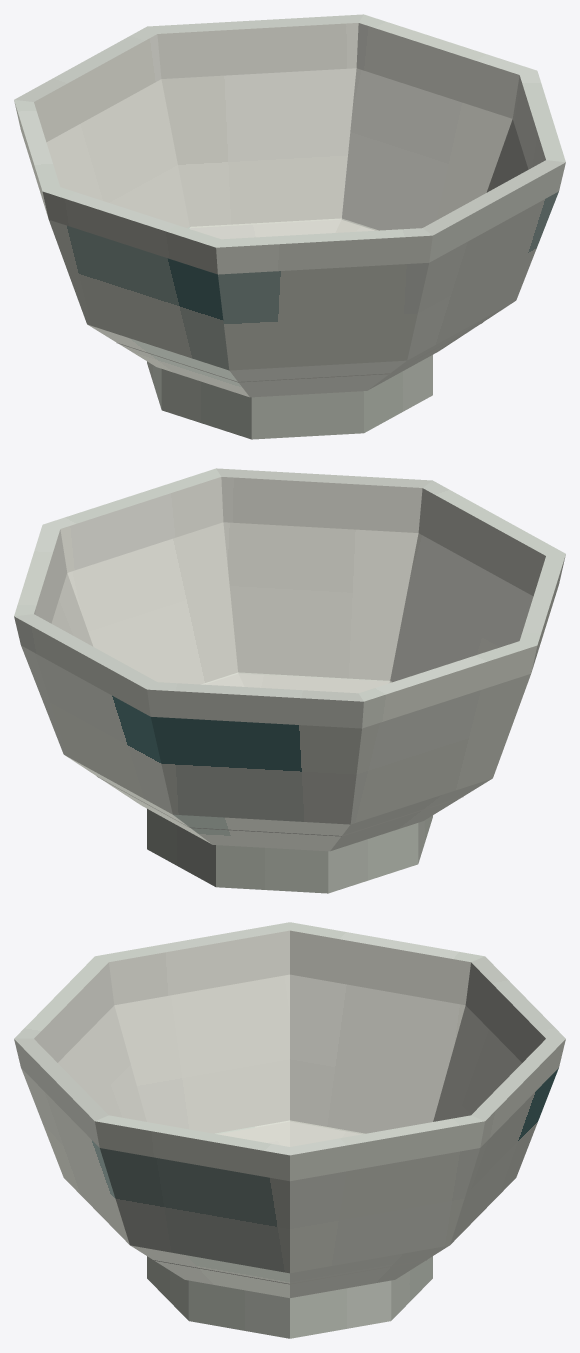
The model's file is antique-nabeshima.glb.
3 renders of one model, top to bottom at view 1: azimuth 30°, elevation 25°; view 2: azimuth 150°, elevation 25°; view 3: azimuth 270°, elevation 25°, orthographic. The views are drawn at different scales.
Parts seen in each view (by area): view 1: antique-nabeshima/ceramic-inner-wall-6, antique-nabeshima/ceramic-outer-mid-2, antique-nabeshima/ceramic-inner-upper-5, antique-nabeshima/ceramic-rim-4, antique-nabeshima/ceramic-outer-upper-3, antique-nabeshima/ceramic-foot-outer-1, antique-nabeshima/ceramic-outer-lower-1, antique-nabeshima/ceramic-inner-lower-7; view 2: antique-nabeshima/ceramic-inner-wall-6, antique-nabeshima/ceramic-outer-mid-2, antique-nabeshima/ceramic-inner-upper-5, antique-nabeshima/ceramic-rim-4, antique-nabeshima/ceramic-outer-upper-3, antique-nabeshima/ceramic-foot-outer-1, antique-nabeshima/ceramic-outer-lower-1, antique-nabeshima/ceramic-inner-lower-7; view 3: antique-nabeshima/ceramic-inner-wall-6, antique-nabeshima/ceramic-outer-mid-2, antique-nabeshima/ceramic-inner-upper-5, antique-nabeshima/ceramic-outer-upper-3, antique-nabeshima/ceramic-rim-4, antique-nabeshima/ceramic-foot-outer-1, antique-nabeshima/ceramic-outer-lower-1, antique-nabeshima/ceramic-inner-lower-7.
Part boxes in pixels (x1,y1,x2,y2): antique-nabeshima/ceramic-inner-wall-6: (46, 68, 528, 382); antique-nabeshima/ceramic-outer-mid-2: (49, 191, 558, 370); antique-nabeshima/ceramic-inner-upper-5: (34, 23, 545, 169); antique-nabeshima/ceramic-rim-4: (14, 14, 565, 247); antique-nabeshima/ceramic-outer-upper-3: (14, 101, 565, 274); antique-nabeshima/ceramic-foot-outer-1: (147, 355, 432, 439); antique-nabeshima/ceramic-outer-lower-1: (88, 218, 514, 397); antique-nabeshima/ceramic-inner-lower-7: (189, 219, 374, 239); antique-nabeshima/ceramic-inner-wall-6: (51, 522, 533, 836); antique-nabeshima/ceramic-outer-mid-2: (21, 645, 530, 824); antique-nabeshima/ceramic-inner-upper-5: (34, 477, 545, 623); antique-nabeshima/ceramic-rim-4: (14, 468, 565, 701); antique-nabeshima/ceramic-outer-upper-3: (14, 555, 565, 728); antique-nabeshima/ceramic-foot-outer-1: (147, 809, 432, 893); antique-nabeshima/ceramic-outer-lower-1: (65, 672, 491, 851); antique-nabeshima/ceramic-inner-lower-7: (205, 673, 390, 693); antique-nabeshima/ceramic-inner-wall-6: (58, 974, 521, 1284); antique-nabeshima/ceramic-outer-mid-2: (21, 1068, 558, 1273); antique-nabeshima/ceramic-inner-upper-5: (34, 930, 545, 1062); antique-nabeshima/ceramic-outer-upper-3: (14, 1039, 565, 1181); antique-nabeshima/ceramic-rim-4: (14, 922, 565, 1155); antique-nabeshima/ceramic-foot-outer-1: (147, 1256, 432, 1338); antique-nabeshima/ceramic-outer-lower-1: (130, 1120, 449, 1297); antique-nabeshima/ceramic-inner-lower-7: (218, 1121, 361, 1146).
Bounding box in the file's own units: 0.5625 × 0.2694 × 0.5625.
4 materials, 4 textured.
